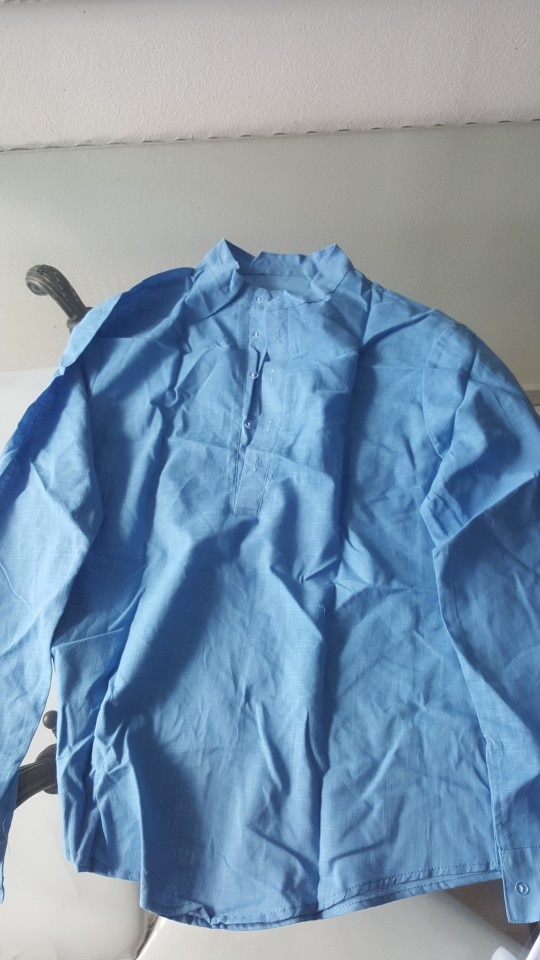shirts: (18, 249, 540, 888)
